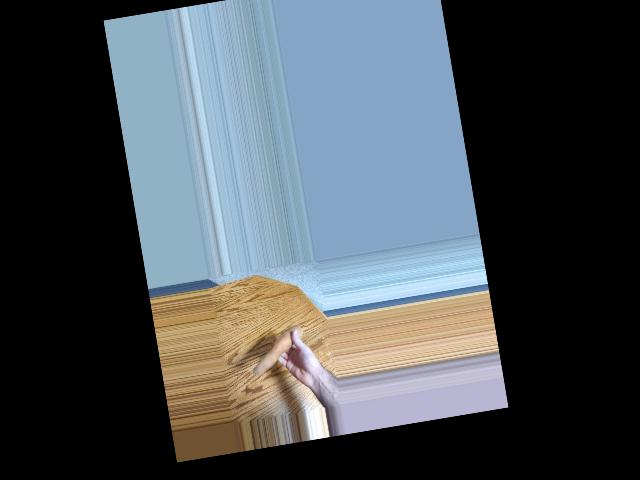sweet_potato: (247, 327, 308, 378)
